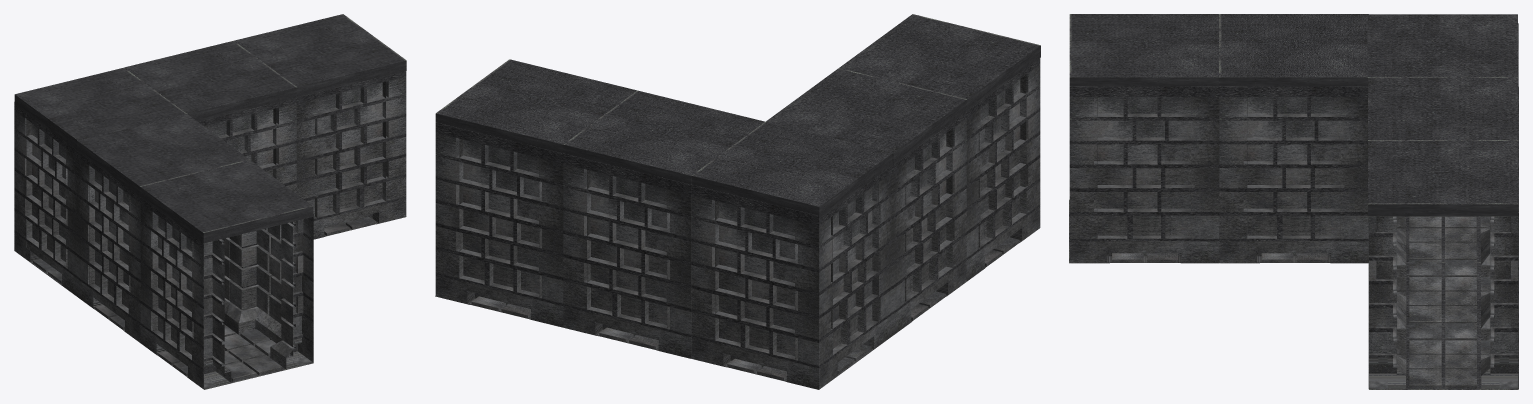
The model's file is Tournant(L).obj.
The picture shows the model from 3 angles, left to right: view 1: azimuth 30°, elevation 25°; view 2: azimuth 150°, elevation 25°; view 3: azimuth 270°, elevation 25°; orthographic projection. The views are drawn at different scales.
Visible parts, largest first — view 1: Sol.005_Plane.083, Sol.008_Plane.086, Sol.006_Plane.084, Sol.007_Plane.085, Mur.R.002_Plane.116, Plafond.001_Cube.148, Colonne2.R.002_Cube.147, Sol.036_Plane.114; view 2: Sol.007_Plane.085, Sol.008_Plane.086, Sol.005_Plane.083, Sol.006_Plane.084, Mur.R.001_Plane.115, Mur.R.002_Plane.116, Plafond.001_Cube.148, Sol.036_Plane.114, Cube.051_Cube.150; view 3: Sol.005_Plane.083, Sol.006_Plane.084, Sol.008_Plane.086, Sol.007_Plane.085, Plafond.001_Cube.148, Sol.036_Plane.114.
Part boxes in pixels (left/top/right/bottom): Sol.005_Plane.083: left=140, top=160, right=313, bottom=389; Sol.008_Plane.086: left=234, top=14, right=406, bottom=239; Sol.006_Plane.084: left=77, top=114, right=249, bottom=343; Sol.007_Plane.085: left=124, top=40, right=297, bottom=193; Mur.R.002_Plane.116: left=14, top=105, right=77, bottom=296; Plafond.001_Cube.148: left=14, top=67, right=186, bottom=149; Colonne2.R.002_Cube.147: left=15, top=113, right=31, bottom=262; Sol.036_Plane.114: left=18, top=253, right=76, bottom=296; Sol.007_Plane.085: left=563, top=90, right=764, bottom=358; Sol.008_Plane.086: left=435, top=59, right=636, bottom=327; Sol.005_Plane.083: left=839, top=14, right=1040, bottom=281; Sol.006_Plane.084: left=765, top=68, right=966, bottom=335; Mur.R.001_Plane.115: left=691, top=184, right=819, bottom=389; Mur.R.002_Plane.116: left=819, top=165, right=892, bottom=388; Plafond.001_Cube.148: left=691, top=121, right=892, bottom=218; Sol.036_Plane.114: left=691, top=336, right=892, bottom=389; Cube.051_Cube.150: left=863, top=182, right=878, bottom=348; Sol.005_Plane.083: left=1069, top=14, right=1219, bottom=263; Sol.006_Plane.084: left=1219, top=14, right=1368, bottom=263; Sol.008_Plane.086: left=1368, top=141, right=1518, bottom=389; Sol.007_Plane.085: left=1368, top=77, right=1518, bottom=326; Plafond.001_Cube.148: left=1367, top=14, right=1517, bottom=86; Sol.036_Plane.114: left=1397, top=216, right=1489, bottom=262.
Bounding box in the file's own units: 2.36 × 1.07 × 2.35.
